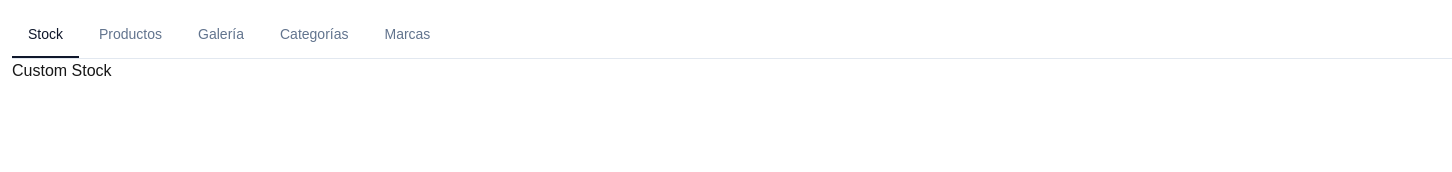
Test: ProductsManagement › renders custom content instead of default components
Expected: the text "Custom Stock" is shown, [12,62,112,79]
Click the tab "Productos".
click(130, 35)  # box [83,12,178,58]
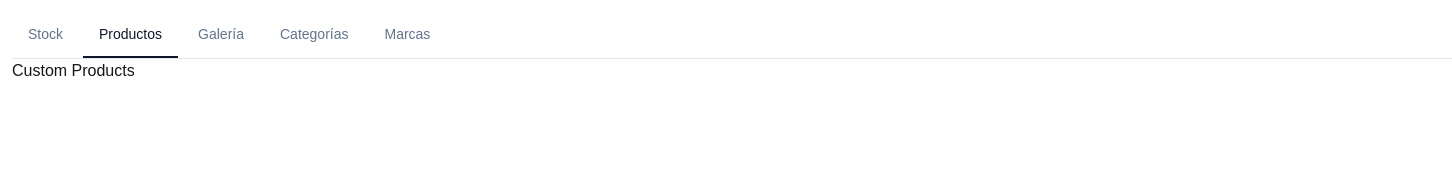
Expected: the text "Custom Products" is shown, [12,62,135,79]
Click the tab "Galería".
click(221, 35)  # box [182,12,260,58]
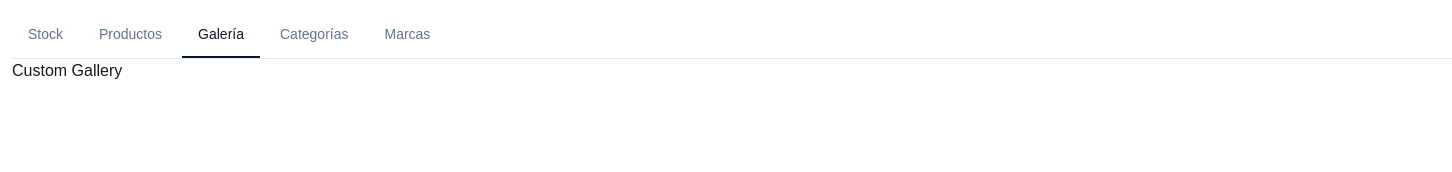
Expected: the text "Custom Gallery" is shown, [12,62,122,79]
Click the tab "Categorías".
click(314, 35)  # box [264,12,364,58]
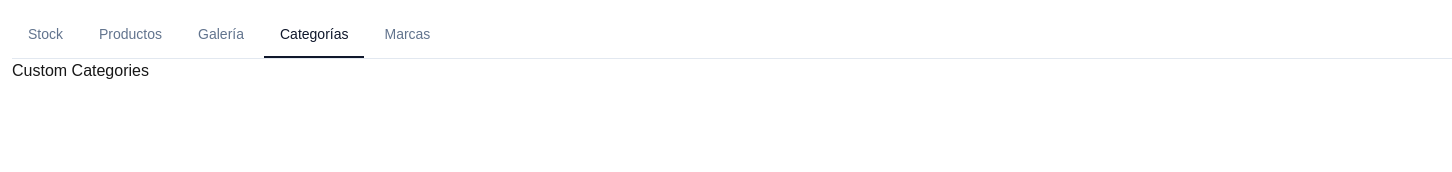
Expected: the text "Custom Categories" is shown, [12,62,149,79]
Click the tab "Marcas".
click(407, 35)  # box [368,12,446,58]
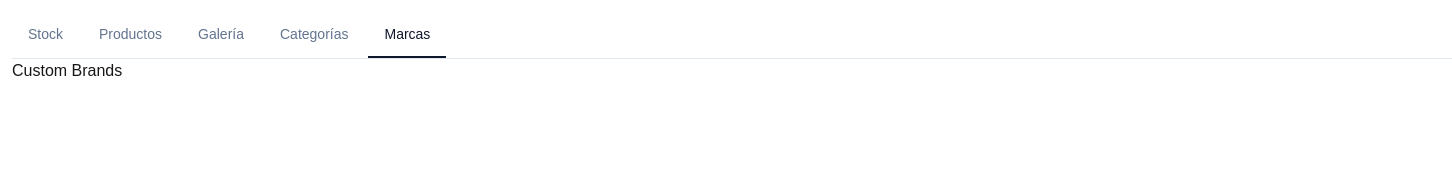
Expected: the text "Custom Brands" is shown, [12,62,122,79]
